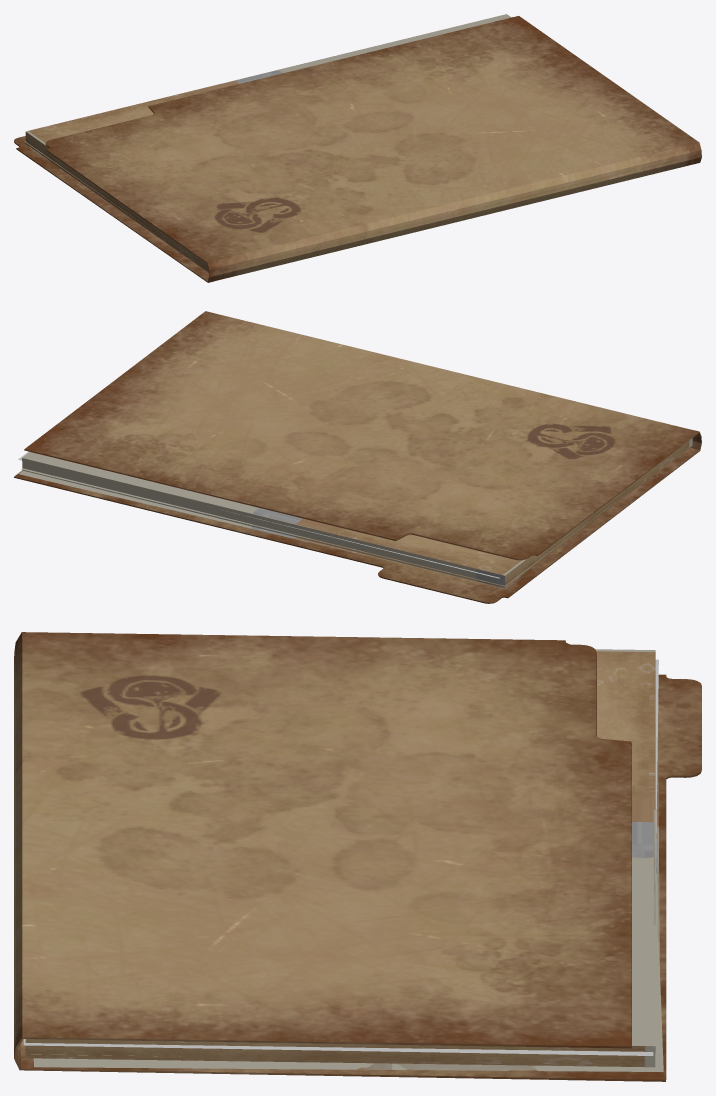
3 views of the same model, one above another, from view 1: azimuth 30°, elevation 25°; view 2: azimuth 150°, elevation 25°; view 3: azimuth 270°, elevation 25° (orthographic). The views are drawn at different scales.
Visible parts, largest first — view 1: Cube.008, paper.020; view 2: Cube.008, paper.020, paper.022, paper.021; view 3: Cube.008, paper.020, paper.022, paper.023, paper.021.
Part boxes in pixels (bbox=[...]): Cube.008: bbox=[14, 16, 701, 282]; paper.020: bbox=[25, 14, 511, 272]; Cube.008: bbox=[14, 311, 701, 603]; paper.020: bbox=[22, 438, 692, 587]; paper.022: bbox=[19, 470, 519, 588]; paper.021: bbox=[21, 468, 621, 586]; Cube.008: bbox=[14, 632, 701, 1081]; paper.020: bbox=[25, 649, 655, 1067]; paper.022: bbox=[33, 977, 663, 1071]; paper.023: bbox=[23, 659, 658, 1055]; paper.021: bbox=[31, 736, 660, 1062].
Size of the model in its own units: 0.2149 by 0.1537 by 0.0111.
